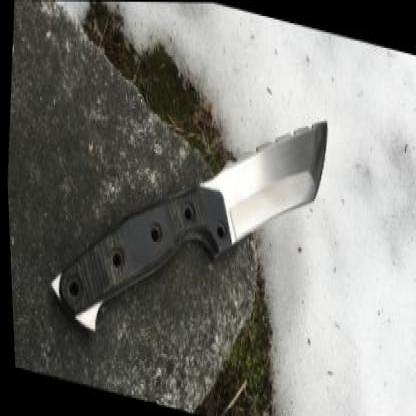knife: (170, 72, 338, 294)
